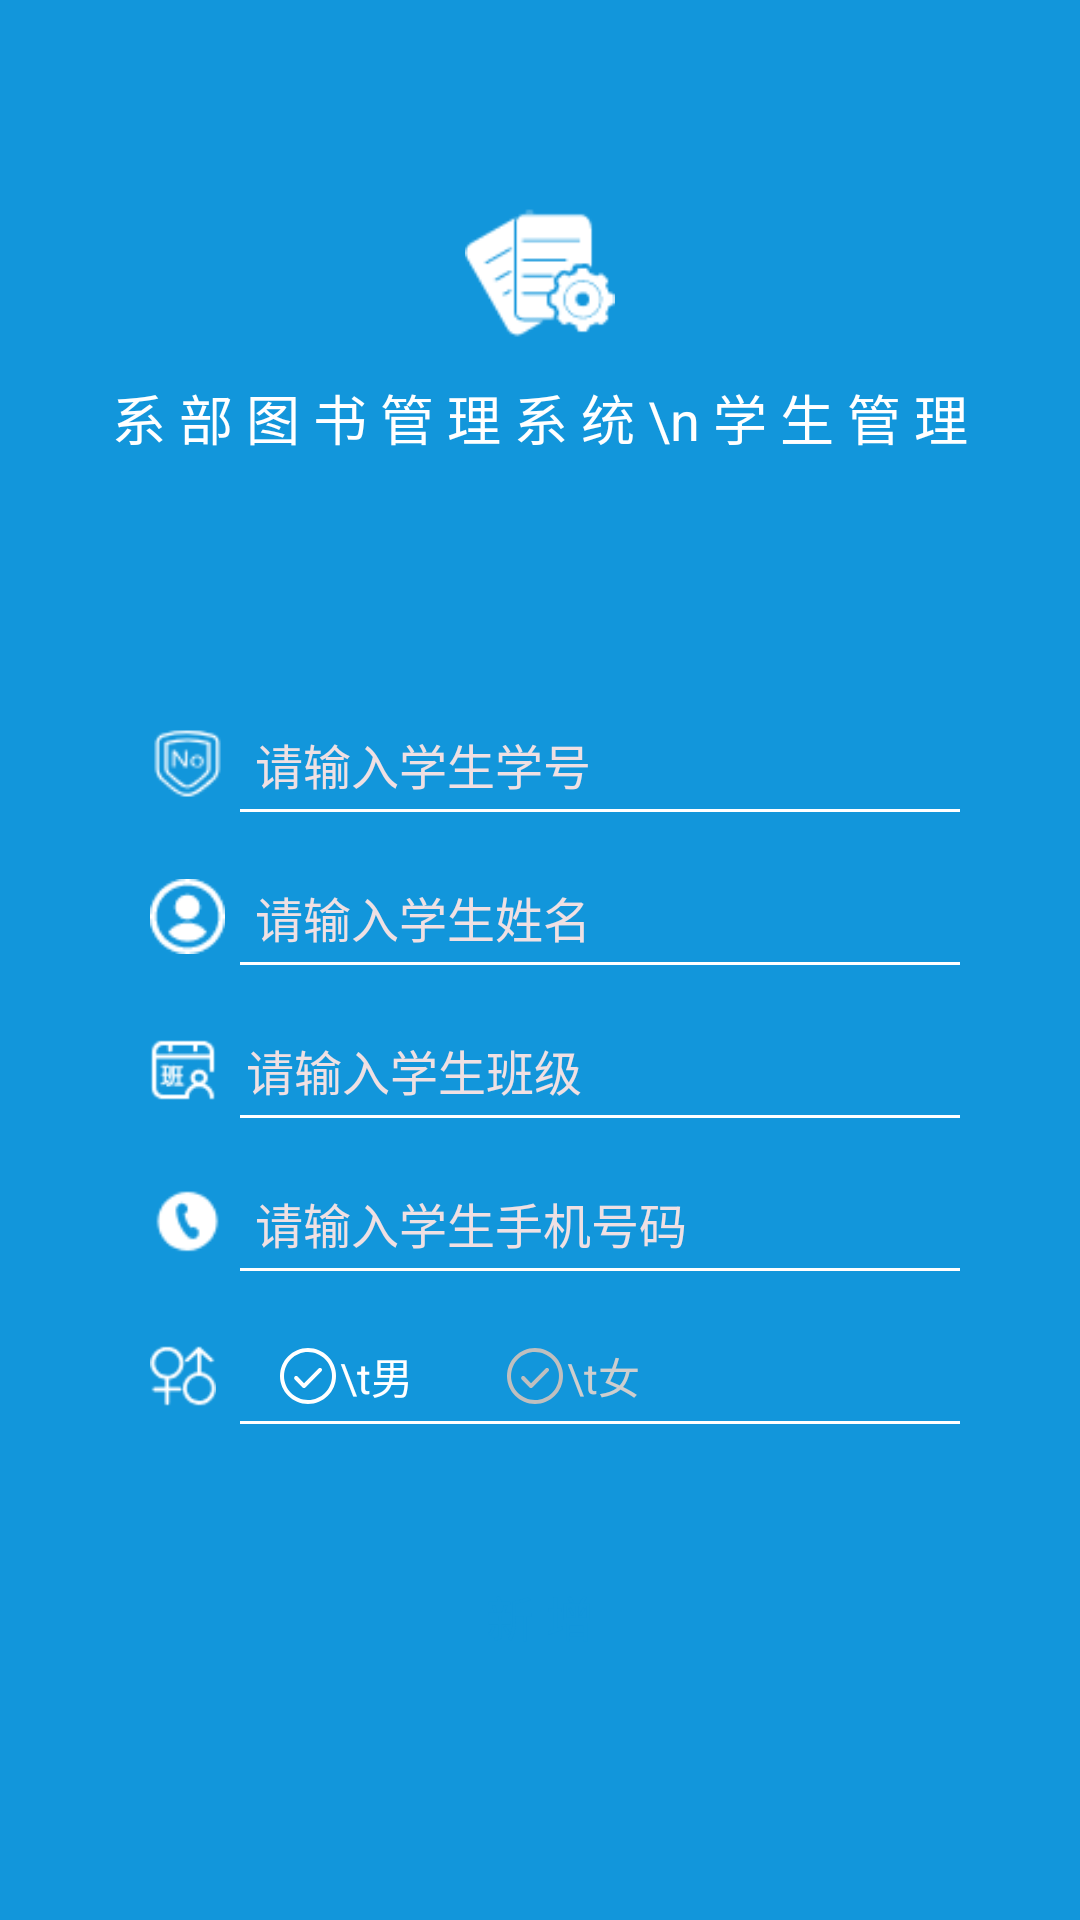

Locate icon controls on the screen. Image size 1080px x 1920px, boxes as (x1, y1, x2, y2).
login tel: (156, 1191, 219, 1252)
login user: (150, 879, 225, 954)
studen class: (151, 1040, 215, 1100)
studen number: (154, 730, 221, 797)
studen sex: (150, 1346, 216, 1406)
